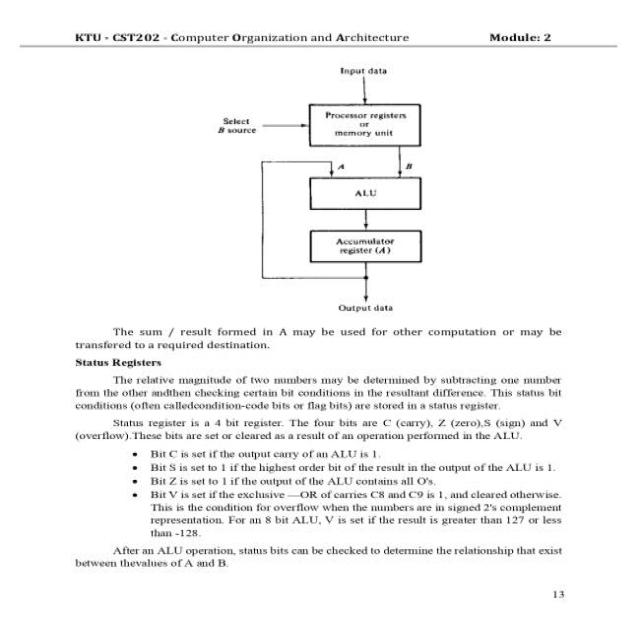Figure Detection - v3 Dataset Version2: (201, 59, 492, 320)
